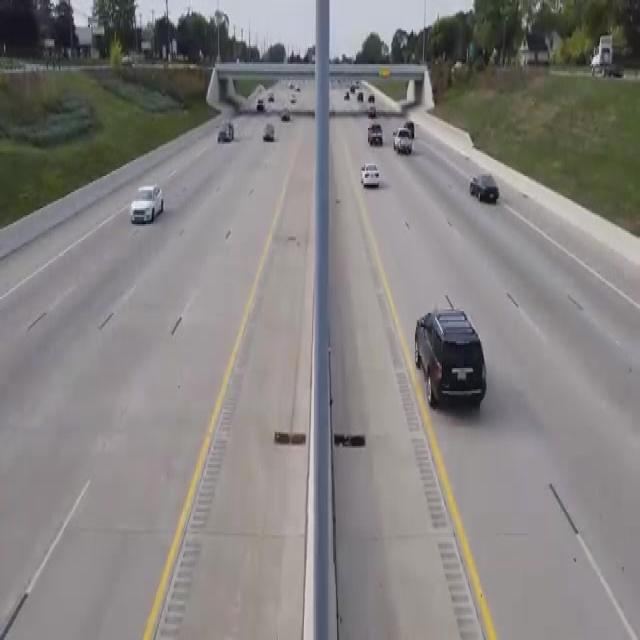car: (406, 292, 500, 424), (124, 174, 171, 237), (453, 168, 516, 212), (352, 154, 391, 197), (215, 118, 237, 160), (258, 121, 279, 155), (276, 104, 295, 126), (253, 99, 267, 115), (365, 101, 379, 117)
truck: (386, 120, 420, 152), (402, 110, 426, 152), (365, 115, 392, 152)
